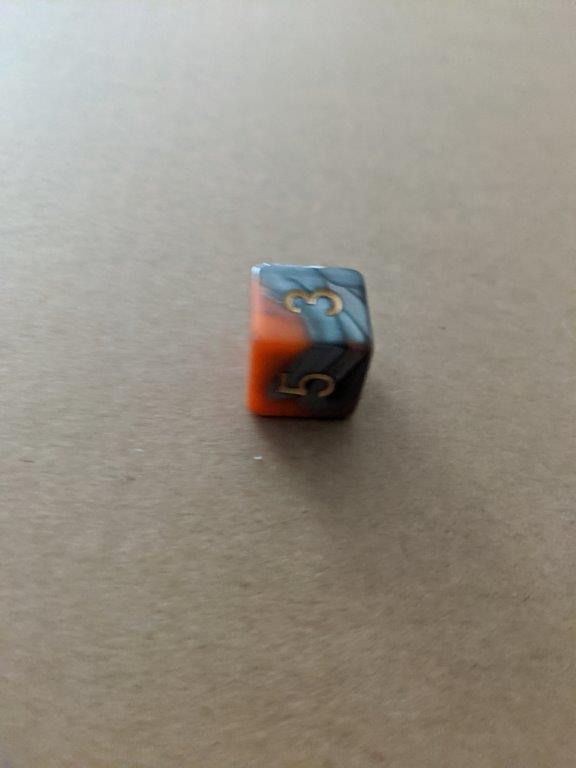d6-3: (245, 262, 374, 426)
